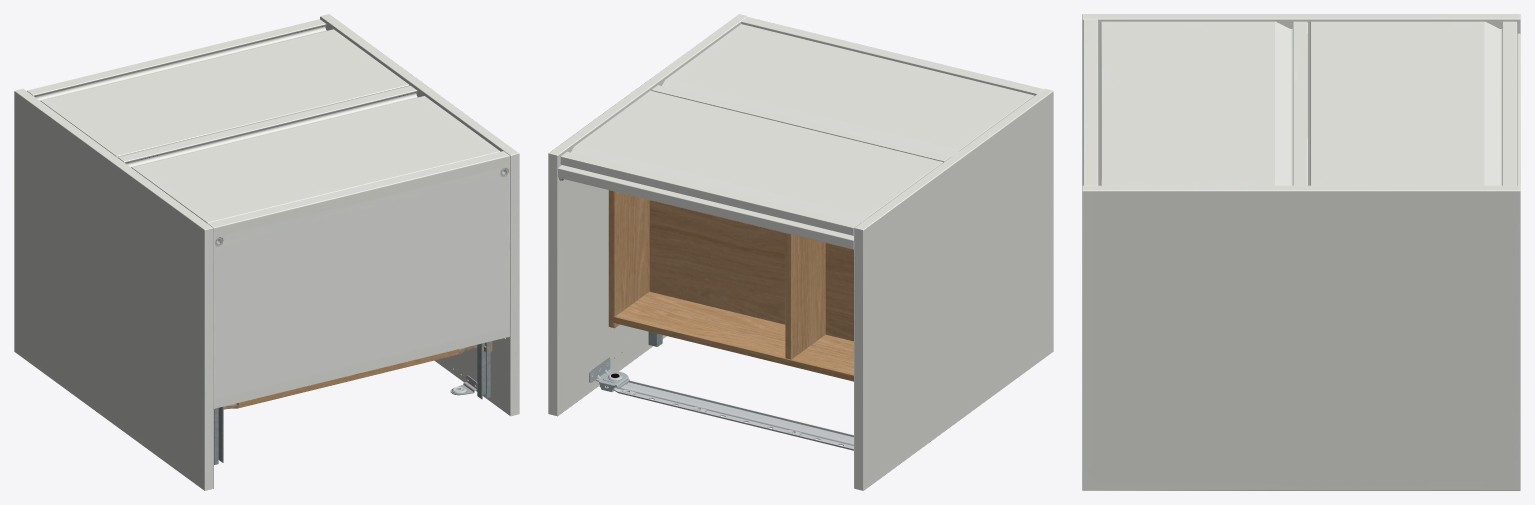
The model's file is angsjon_szafka_umywalkowa_z_szufladami_30535086.glb.
3 renders of one model, left to right at view 1: azimuth 30°, elevation 25°; view 2: azimuth 150°, elevation 25°; view 3: azimuth 270°, elevation 25°, orthographic. The views are drawn at different scales.
Parts seen in each view (by area): view 1: angsjon_szafka_umywalkowa_z_szufladami_30535086; view 2: angsjon_szafka_umywalkowa_z_szufladami_30535086; view 3: angsjon_szafka_umywalkowa_z_szufladami_30535086.
Part boxes in pixels (x1,y1,x2,y2): angsjon_szafka_umywalkowa_z_szufladami_30535086: (14,14,519,490); angsjon_szafka_umywalkowa_z_szufladami_30535086: (548,14,1053,490); angsjon_szafka_umywalkowa_z_szufladami_30535086: (1082,14,1520,490).
Bounding box in the file's own units: 0.6 × 0.475 × 0.628.
1 material, 1 textured.
